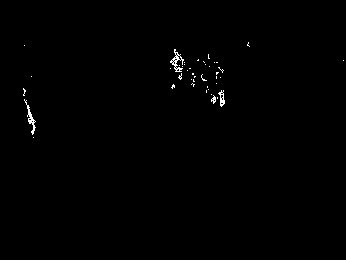person: (167, 49, 185, 89)
